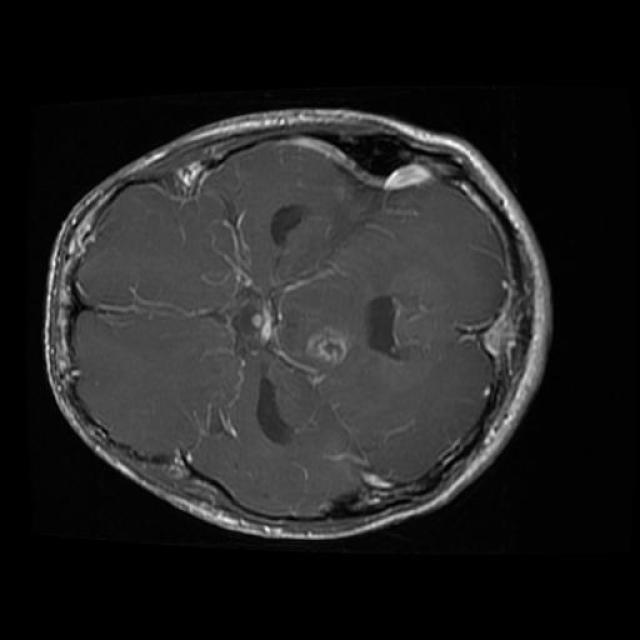Glioma: (305, 328, 347, 366)
